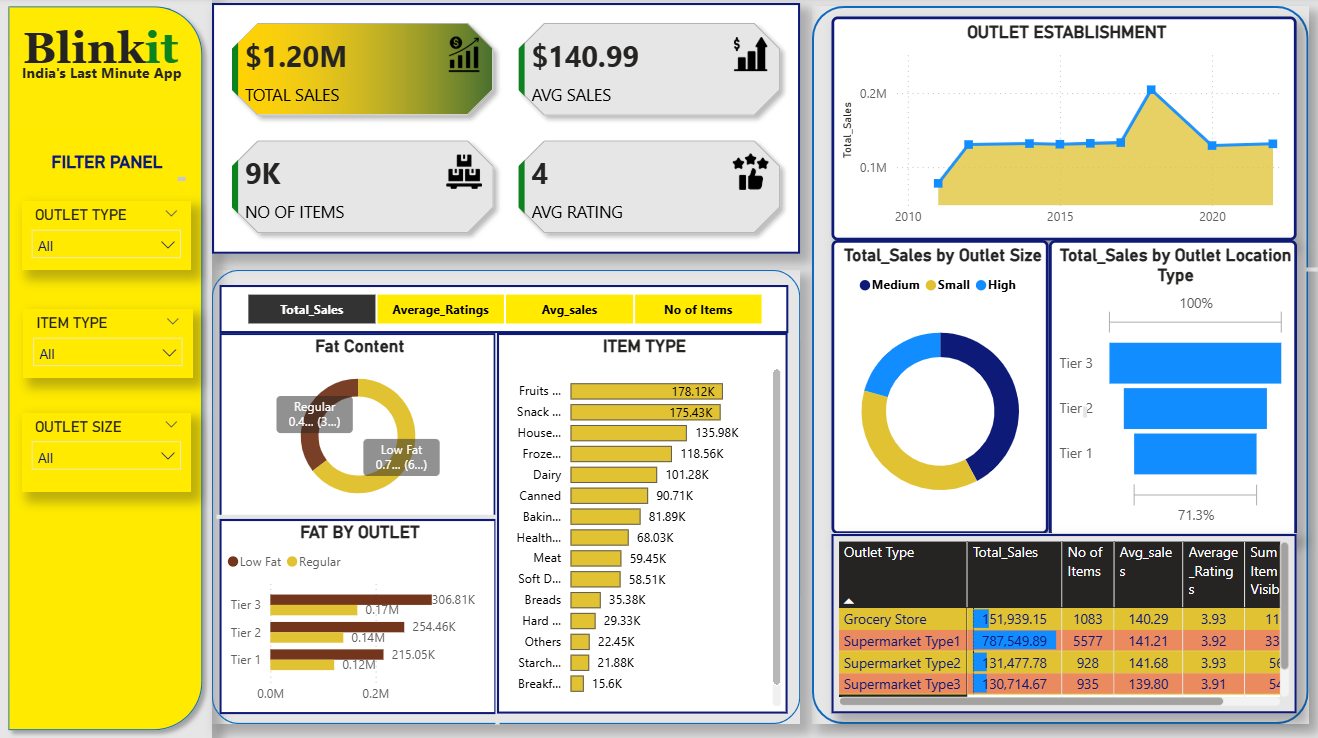

The dashboard page shown, as its layout file describes it:
{"tool":"powerbi","page":{"name":"Page 1","canvas":[1280,720],"ordinal":0},"visuals":[{"type":"shape","box":[0,0,206.4,720.5],"z":0},{"type":"textbox","box":[0,18.4,197.1,107.2],"z":1000},{"type":"textbox","box":[11.5,57.6,176.4,28.8],"z":2000},{"type":"cardVisual","fields":{"Data":["BlinkIT Grocery Data.Total_Sales","BlinkIT Grocery Data.Avg_sales","BlinkIT Grocery Data.No of Items","BlinkIT Grocery Data.Average_Ratings"]},"box":[206.3,6.2,570.7,243.5],"z":3000},{"type":"shape","box":[206.3,265.2,570.7,440.5],"z":4000},{"type":"donutChart","title":"Fat Content","fields":{"Y":["Sum(BlinkIT Grocery Data.Sales)"],"Category":["BlinkIT Grocery Data.Item Fat Content"]},"box":[214,325.7,268.3,179.9],"z":5000},{"type":"slicer","fields":{"Values":["Metrics.Metrics"]},"box":[214,279.2,552.1,46.5],"z":6000},{"type":"clusteredBarChart","title":"FAT BY OUTLET","fields":{"Y":["BlinkIT Grocery Data.Total_Sales"],"Category":["BlinkIT Grocery Data.Outlet Location Type"],"Series":["BlinkIT Grocery Data.Item Fat Content"]},"box":[214.4,506.1,268.6,189.1],"z":7000},{"type":"shape","box":[211,496.9,275.5,16.1],"z":8000},{"type":"shape","box":[476.1,325.7,15.5,380],"z":9000},{"type":"clusteredBarChart","title":"ITEM TYPE","fields":{"Y":["BlinkIT Grocery Data.Total_Sales"],"Category":["BlinkIT Grocery Data.Item Type"]},"box":[483.9,325.7,282.3,369.1],"z":10000},{"type":"shape","box":[788.4,9.3,481.8,696.9],"z":11000},{"type":"lineChart","title":"OUTLET ESTABLISHMENT","fields":{"Y":["BlinkIT Grocery Data.Total_Sales"],"Category":["BlinkIT Grocery Data.Outlet Establishment Year"]},"box":[808,18.6,451.3,217.1],"z":12000},{"type":"shape","box":[797.2,260.5,482.3,7.8],"z":13000},{"type":"donutChart","fields":{"Category":["BlinkIT Grocery Data.Outlet Size"],"Y":["BlinkIT Grocery Data.Total_Sales"]},"box":[808,235.7,210.9,285.4],"z":14000},{"type":"funnel","fields":{"Y":["BlinkIT Grocery Data.Total_Sales"],"Category":["BlinkIT Grocery Data.Outlet Location Type"]},"box":[1018.9,235.7,240.4,288.5],"z":15000},{"type":"shape","box":[808,516.4,451.3,10.9],"z":16000},{"type":"shape","box":[828.2,397,451.3,10.9],"z":17000},{"type":"pivotTable","fields":{"Values":["BlinkIT Grocery Data.Total_Sales","BlinkIT Grocery Data.No of Items","BlinkIT Grocery Data.Avg_sales","BlinkIT Grocery Data.Average_Ratings","Sum(BlinkIT Grocery Data.Item Visibility)"],"Rows":["BlinkIT Grocery Data.Outlet Type"]},"box":[808,521.1,451.3,173.7],"z":18000},{"type":"slicer","fields":{"Values":["BlinkIT Grocery Data.Outlet Location Type"]},"box":[21.7,198.5,164.4,66.7],"z":19000},{"type":"slicer","fields":{"Values":["BlinkIT Grocery Data.Outlet Size"]},"box":[21.7,403.2,164.4,77.5],"z":20000},{"type":"slicer","fields":{"Values":["BlinkIT Grocery Data.Item Type"]},"box":[23.3,302.4,164.4,66.7],"z":21000},{"type":"textbox","title":"FILTER PANEL","box":[23.3,150.4,162.8,34],"z":22000}]}

Visuals, with their boxes in screenshot pixels (x1, y1, x2, y2), scaled from the page's 1280x720 canvas onto the 1318x738 screenshot:
shape: [x1=0, y1=0, x2=213, y2=737]
textbox: [x1=0, y1=19, x2=203, y2=129]
textbox: [x1=12, y1=59, x2=193, y2=89]
cardVisual - BlinkIT Grocery Data.Total_Sales x BlinkIT Grocery Data.Avg_sales: [x1=212, y1=6, x2=800, y2=256]
shape: [x1=212, y1=272, x2=800, y2=723]
"Fat Content" donutChart: [x1=220, y1=334, x2=497, y2=518]
slicer - Metrics.Metrics: [x1=220, y1=286, x2=789, y2=334]
"FAT BY OUTLET" clusteredBarChart: [x1=221, y1=519, x2=497, y2=713]
shape: [x1=217, y1=509, x2=501, y2=526]
shape: [x1=490, y1=334, x2=506, y2=723]
"ITEM TYPE" clusteredBarChart: [x1=498, y1=334, x2=789, y2=712]
shape: [x1=812, y1=10, x2=1308, y2=724]
"OUTLET ESTABLISHMENT" lineChart: [x1=832, y1=19, x2=1297, y2=242]
shape: [x1=821, y1=267, x2=1317, y2=275]
donutChart - BlinkIT Grocery Data.Outlet Size x BlinkIT Grocery Data.Total_Sales: [x1=832, y1=242, x2=1049, y2=534]
funnel - BlinkIT Grocery Data.Total_Sales x BlinkIT Grocery Data.Outlet Location Type: [x1=1049, y1=242, x2=1297, y2=537]
shape: [x1=832, y1=529, x2=1297, y2=540]
shape: [x1=853, y1=407, x2=1317, y2=418]
pivotTable - BlinkIT Grocery Data.Total_Sales x BlinkIT Grocery Data.No of Items: [x1=832, y1=534, x2=1297, y2=712]
slicer - BlinkIT Grocery Data.Outlet Location Type: [x1=22, y1=203, x2=192, y2=272]
slicer - BlinkIT Grocery Data.Outlet Size: [x1=22, y1=413, x2=192, y2=493]
slicer - BlinkIT Grocery Data.Item Type: [x1=24, y1=310, x2=193, y2=378]
"FILTER PANEL" textbox: [x1=24, y1=154, x2=192, y2=189]
